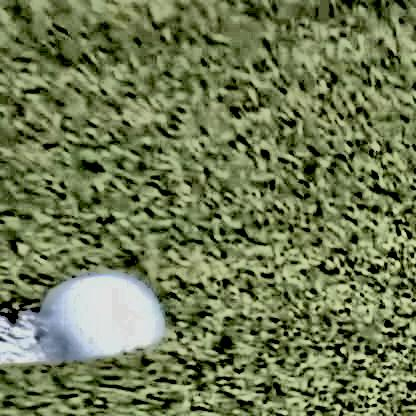golfball: (36, 286, 162, 377)
